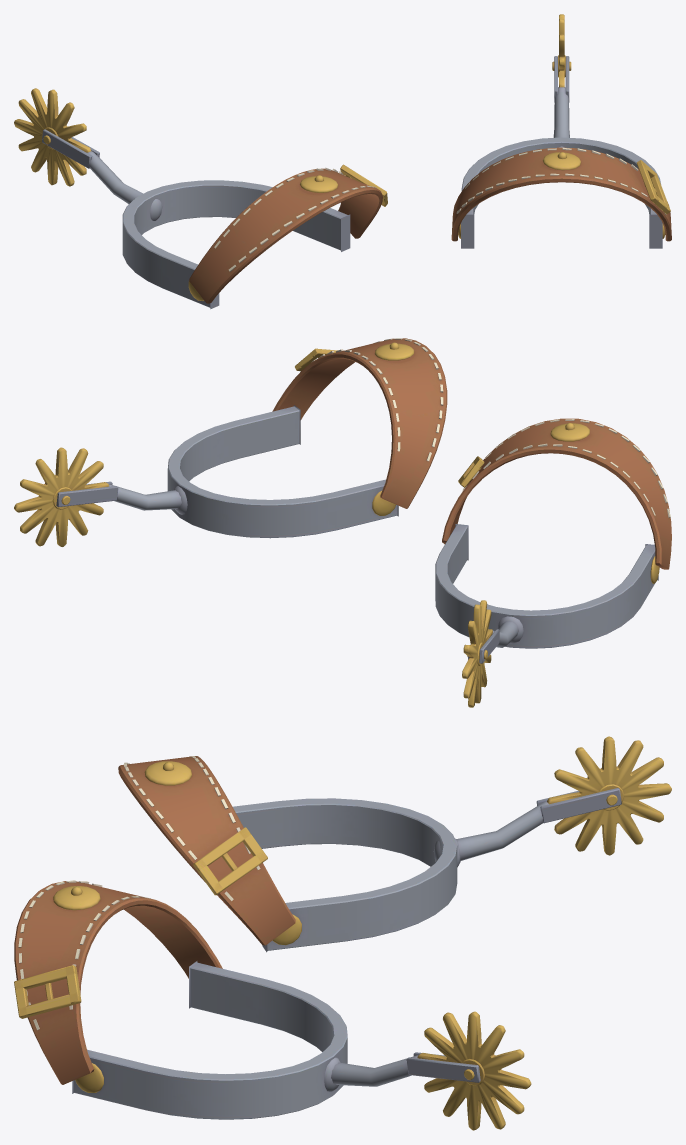
Rendered from cowboy-spurs.glb.
3 views of the same model, one above another, from view 1: azimuth 30°, elevation 25°; view 2: azimuth 150°, elevation 25°; view 3: azimuth 270°, elevation 25° (orthographic). The views are drawn at different scales.
Parts seen in each view (by area): view 1: cowboy-spurs_body; view 2: cowboy-spurs_body; view 3: cowboy-spurs_body.
Part boxes in pixels (<box>): cowboy-spurs_body: <box>14,14,671,309</box>; cowboy-spurs_body: <box>14,338,671,707</box>; cowboy-spurs_body: <box>14,736,671,1130</box>.
Bounding box in the file's own units: 0.2612 × 0.0585 × 0.2367.
Materials: 1 (1 with a texture image).
